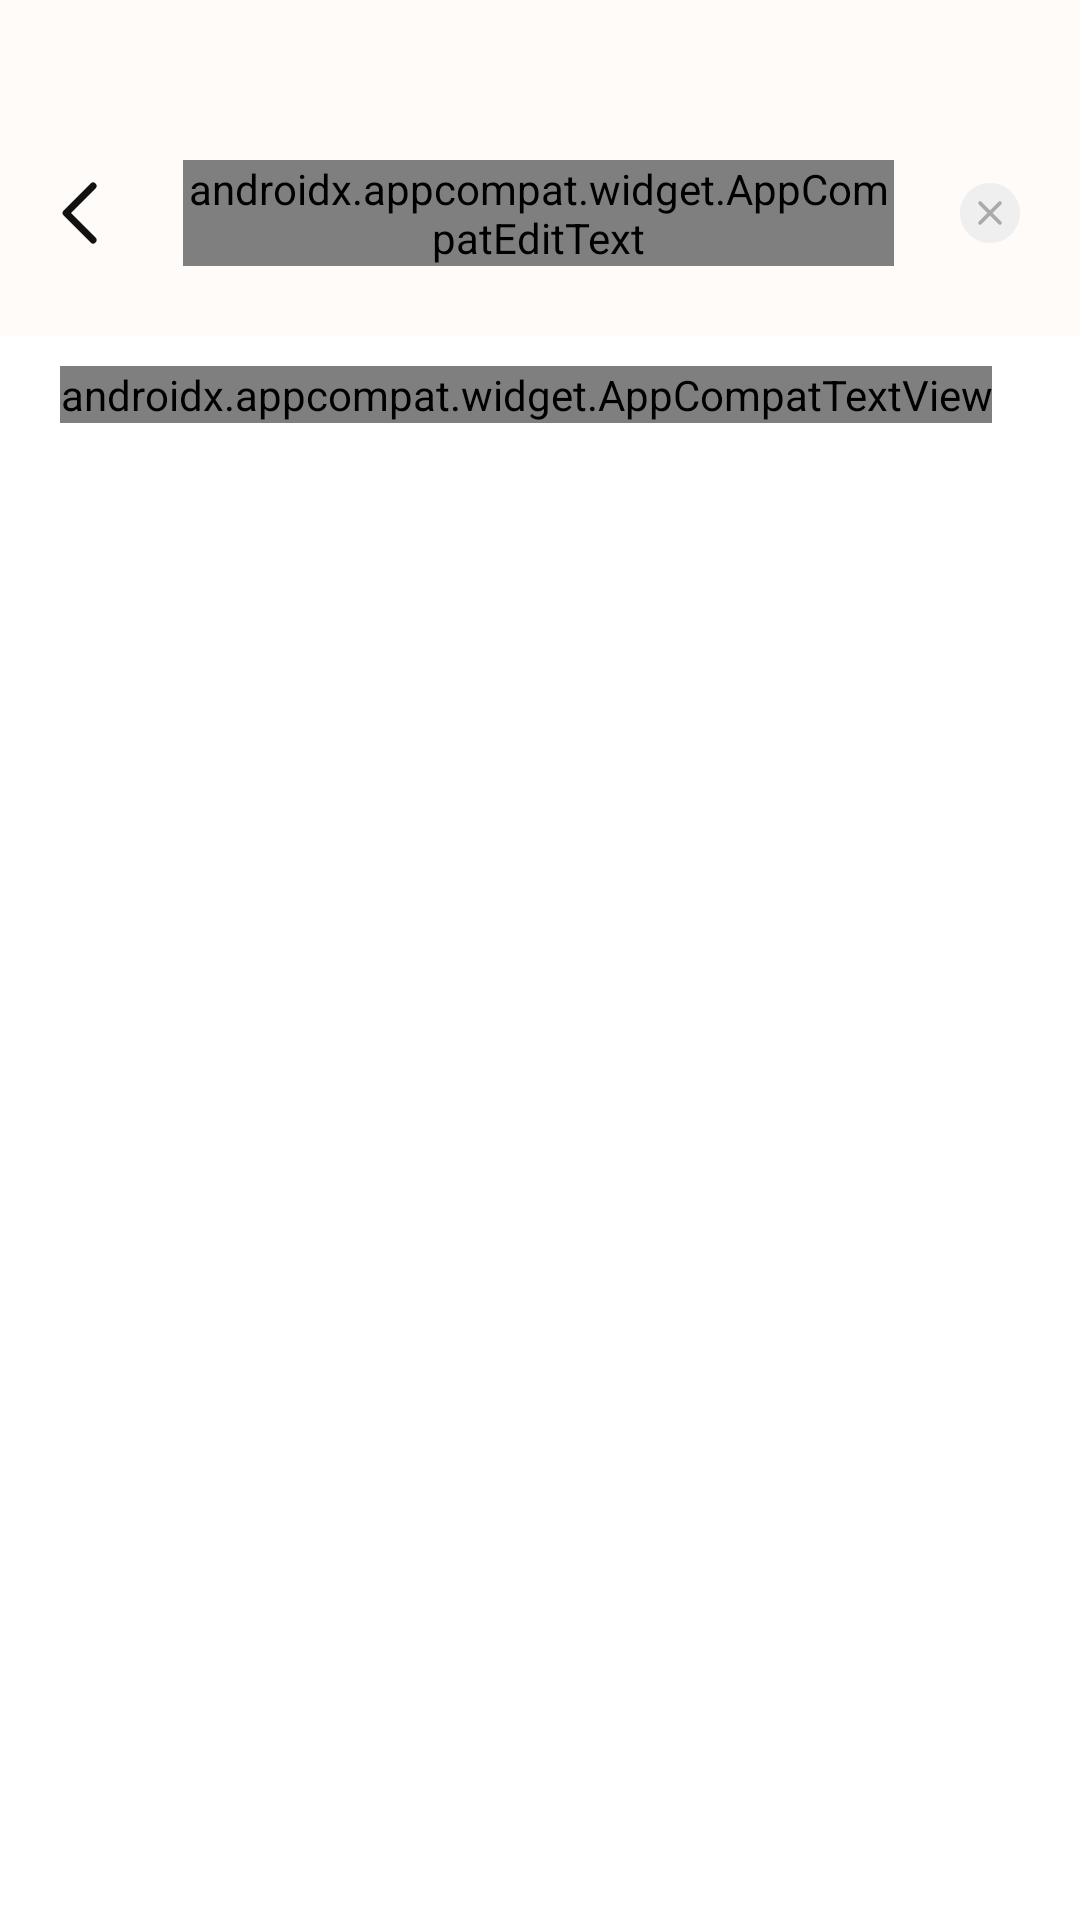

Point at icon controls on the screen. Image size 1080 × 1920, points as (x,y).
back: (79,213)
delete: (990,213)
